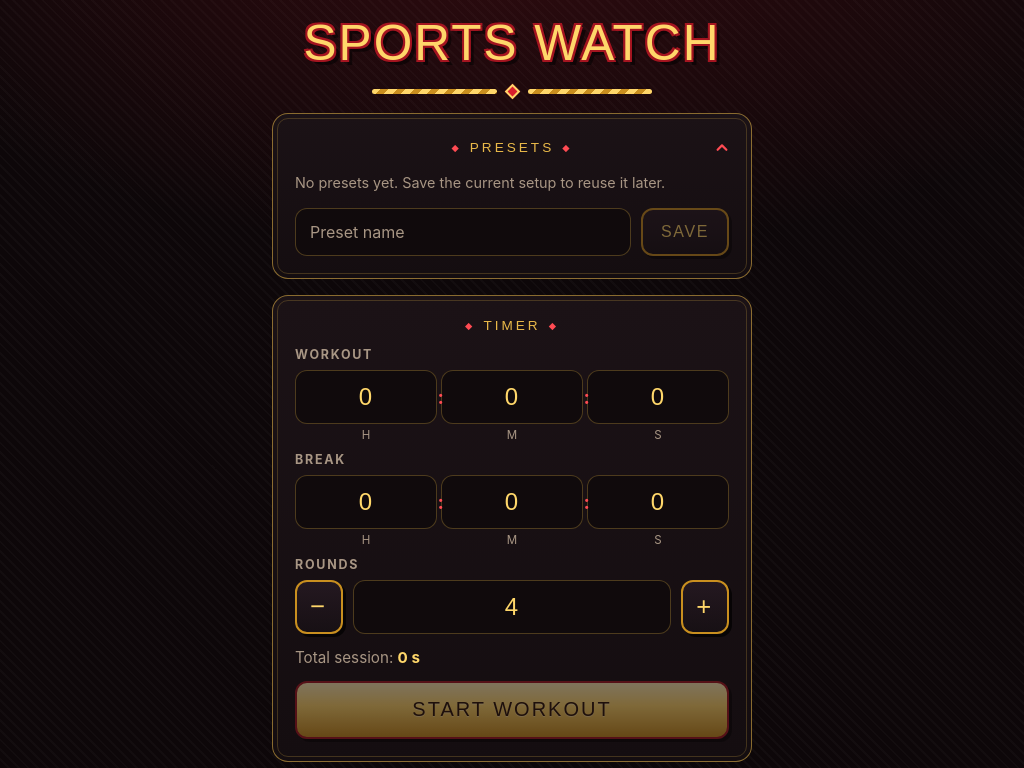
Test case: start stays disabled until the workout has a duration
The image size is (1024, 768).
Expected: the button "Start workout" is disabled, 295,681 -> 729,739
Replace the text in the field named "Workout in seconds" with "30". click: {"x": 658, "y": 397}
box: 587,370 -> 729,424
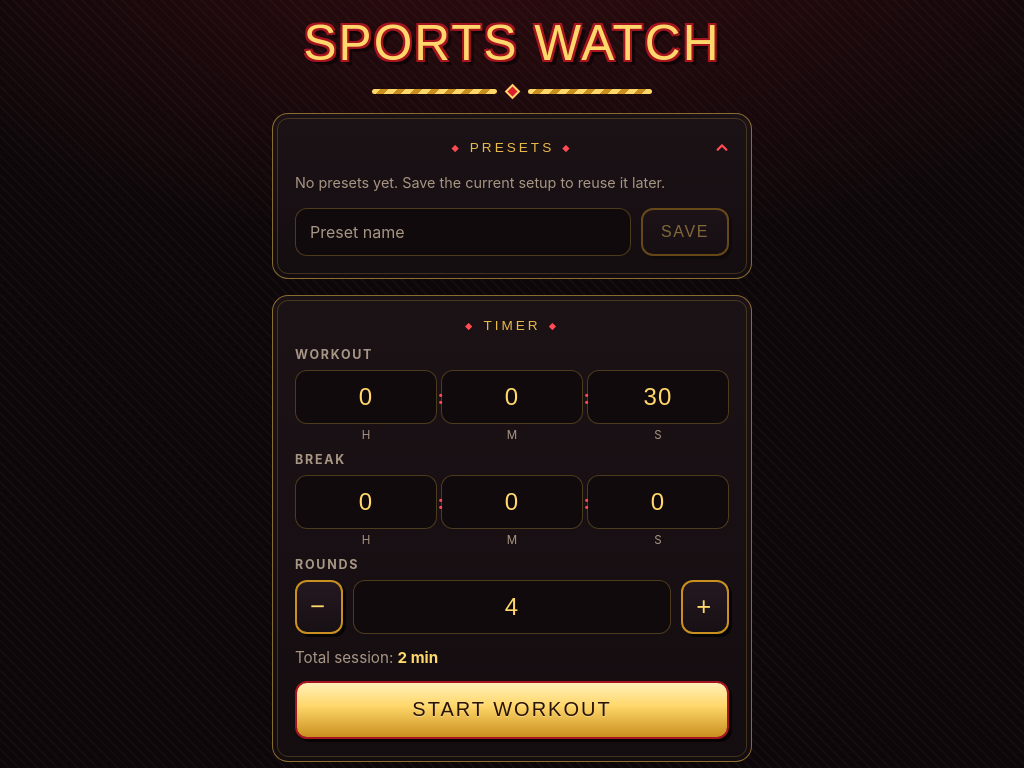
Result: the button "Start workout" is enabled at 295,681 -> 729,739
